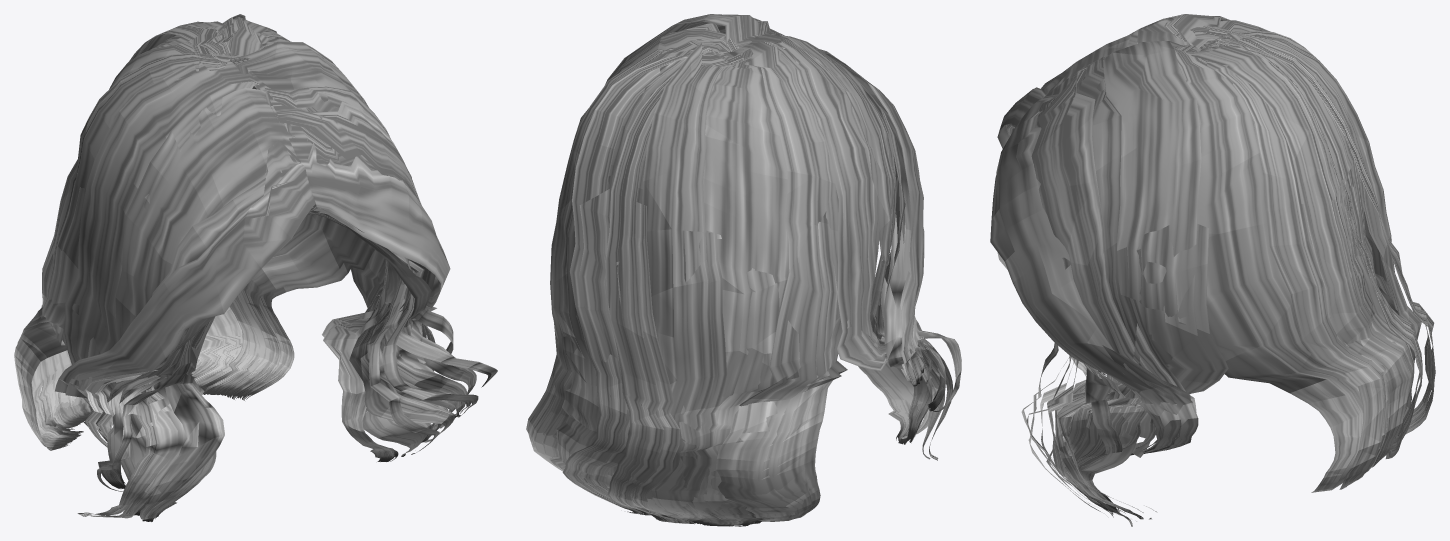
File: daz_hair_mermaid_curl.glb
3 renders of one model, left to right at view 1: azimuth 30°, elevation 25°; view 2: azimuth 150°, elevation 25°; view 3: azimuth 270°, elevation 25°, orthographic. The views are drawn at different scales.
Parts seen in each view (by area): view 1: daz_hair_mermaid_curl; view 2: daz_hair_mermaid_curl; view 3: daz_hair_mermaid_curl.
Boxes of the visible parts, bbox=[...] form: daz_hair_mermaid_curl: bbox=[14, 14, 497, 521]; daz_hair_mermaid_curl: bbox=[526, 14, 961, 526]; daz_hair_mermaid_curl: bbox=[990, 14, 1435, 526].
Size of the model in its own units: 0.2374 by 0.2562 by 0.2381.
1 material, 1 textured.
